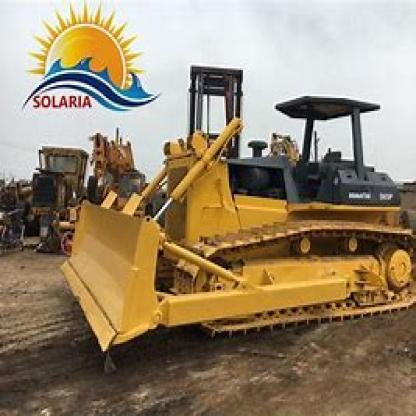bull_dozer/loader/grader: (55, 74, 414, 357)
